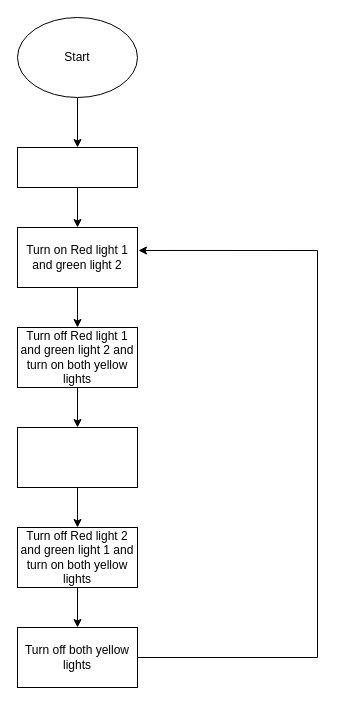
This 343x705 diagram has some shape labels left out. The centre of each missing label's shape, as x and y in pixels:
"Turn off both yellow lights Turn on Red light 2 and green light 1" goes at (77,457).
"Turn ON atmega 328" goes at (77,167).
